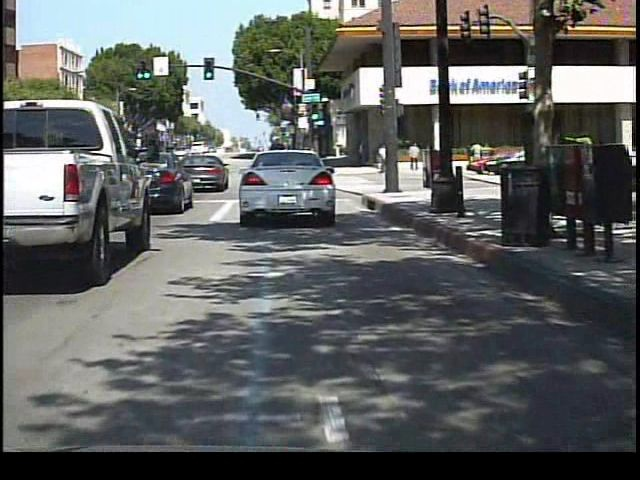person: (467, 138, 487, 172), (407, 141, 424, 174), (377, 140, 391, 175)
